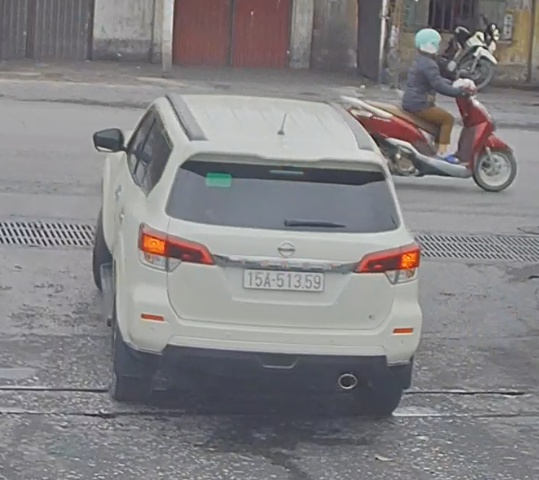vehicle plate: (240, 267, 327, 292)
